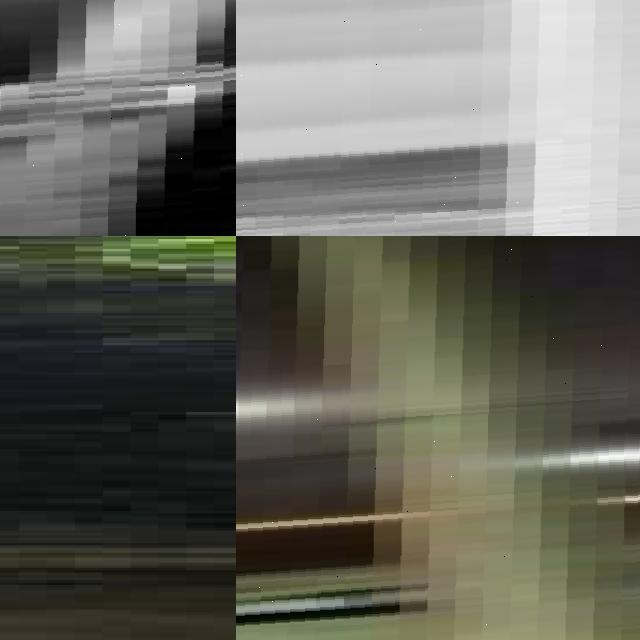street light: (236, 236, 640, 640), (236, 0, 640, 236), (0, 0, 236, 236), (527, 478, 640, 528), (236, 404, 276, 533)
